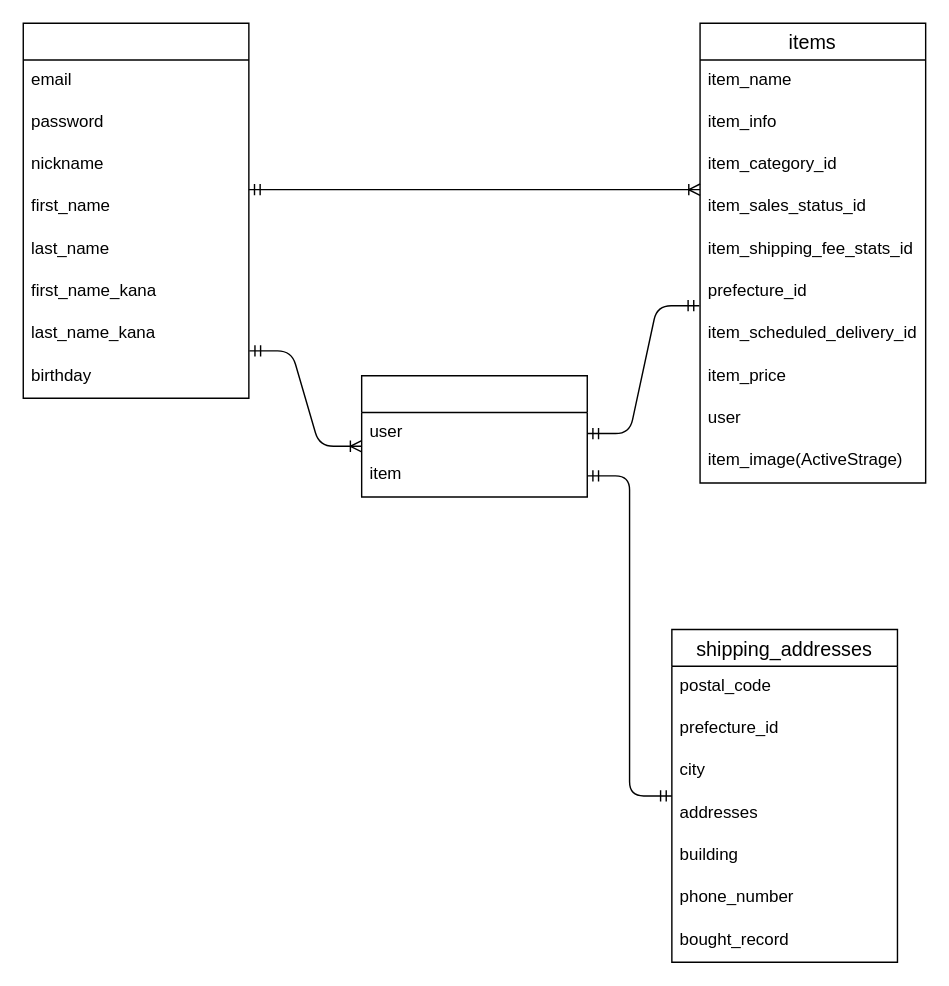
The diagram is 949 pixels wide and 986 high, and some of its shapes have lost their labels. Each missing label, with the box of its shape:
bought_records: (360, 374, 587, 497)
users: (22, 22, 249, 398)
